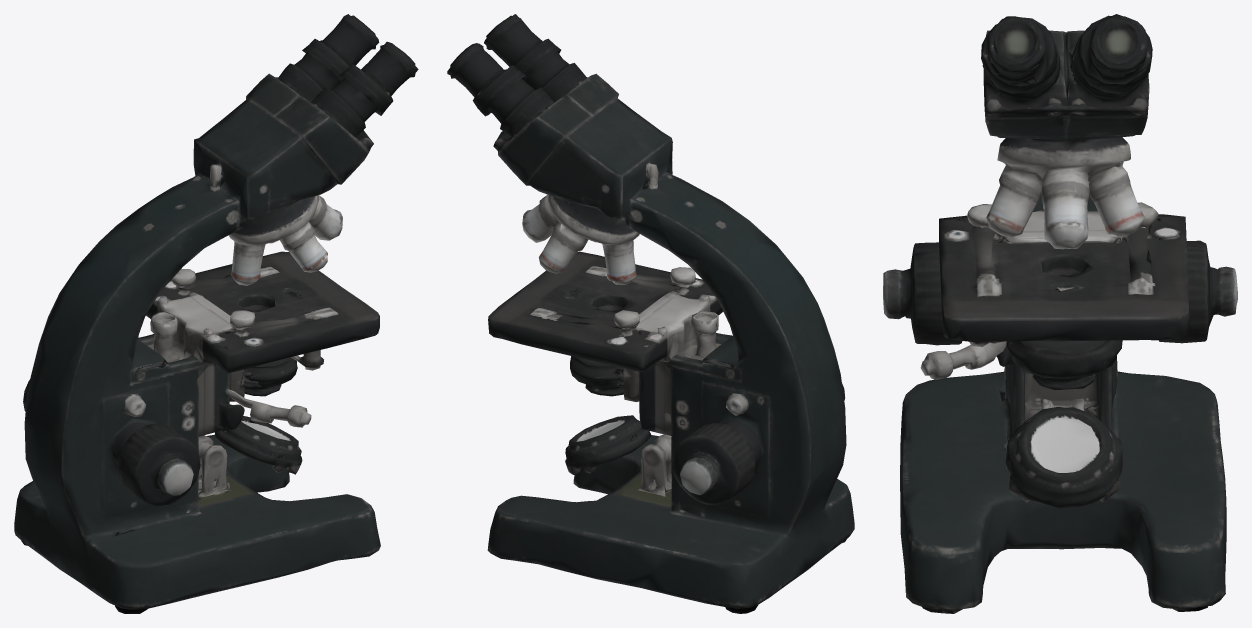
File: Microscope.fbx
3 views of the same model, side by side, from view 1: azimuth 30°, elevation 25°; view 2: azimuth 150°, elevation 25°; view 3: azimuth 270°, elevation 25° (orthographic). The views are drawn at different scales.
Parts seen in each view (by area): view 1: Microscope; view 2: Microscope; view 3: Microscope.
Part boxes in pixels (x1=…): Microscope: x1=14, y1=14, x2=418, y2=613; Microscope: x1=447, y1=14, x2=854, y2=613; Microscope: x1=883, y1=14, x2=1237, y2=613.
Size of the model in its own units: 0.3156 by 0.4 by 0.2044.
Materials: 1 (1 with a texture image).
